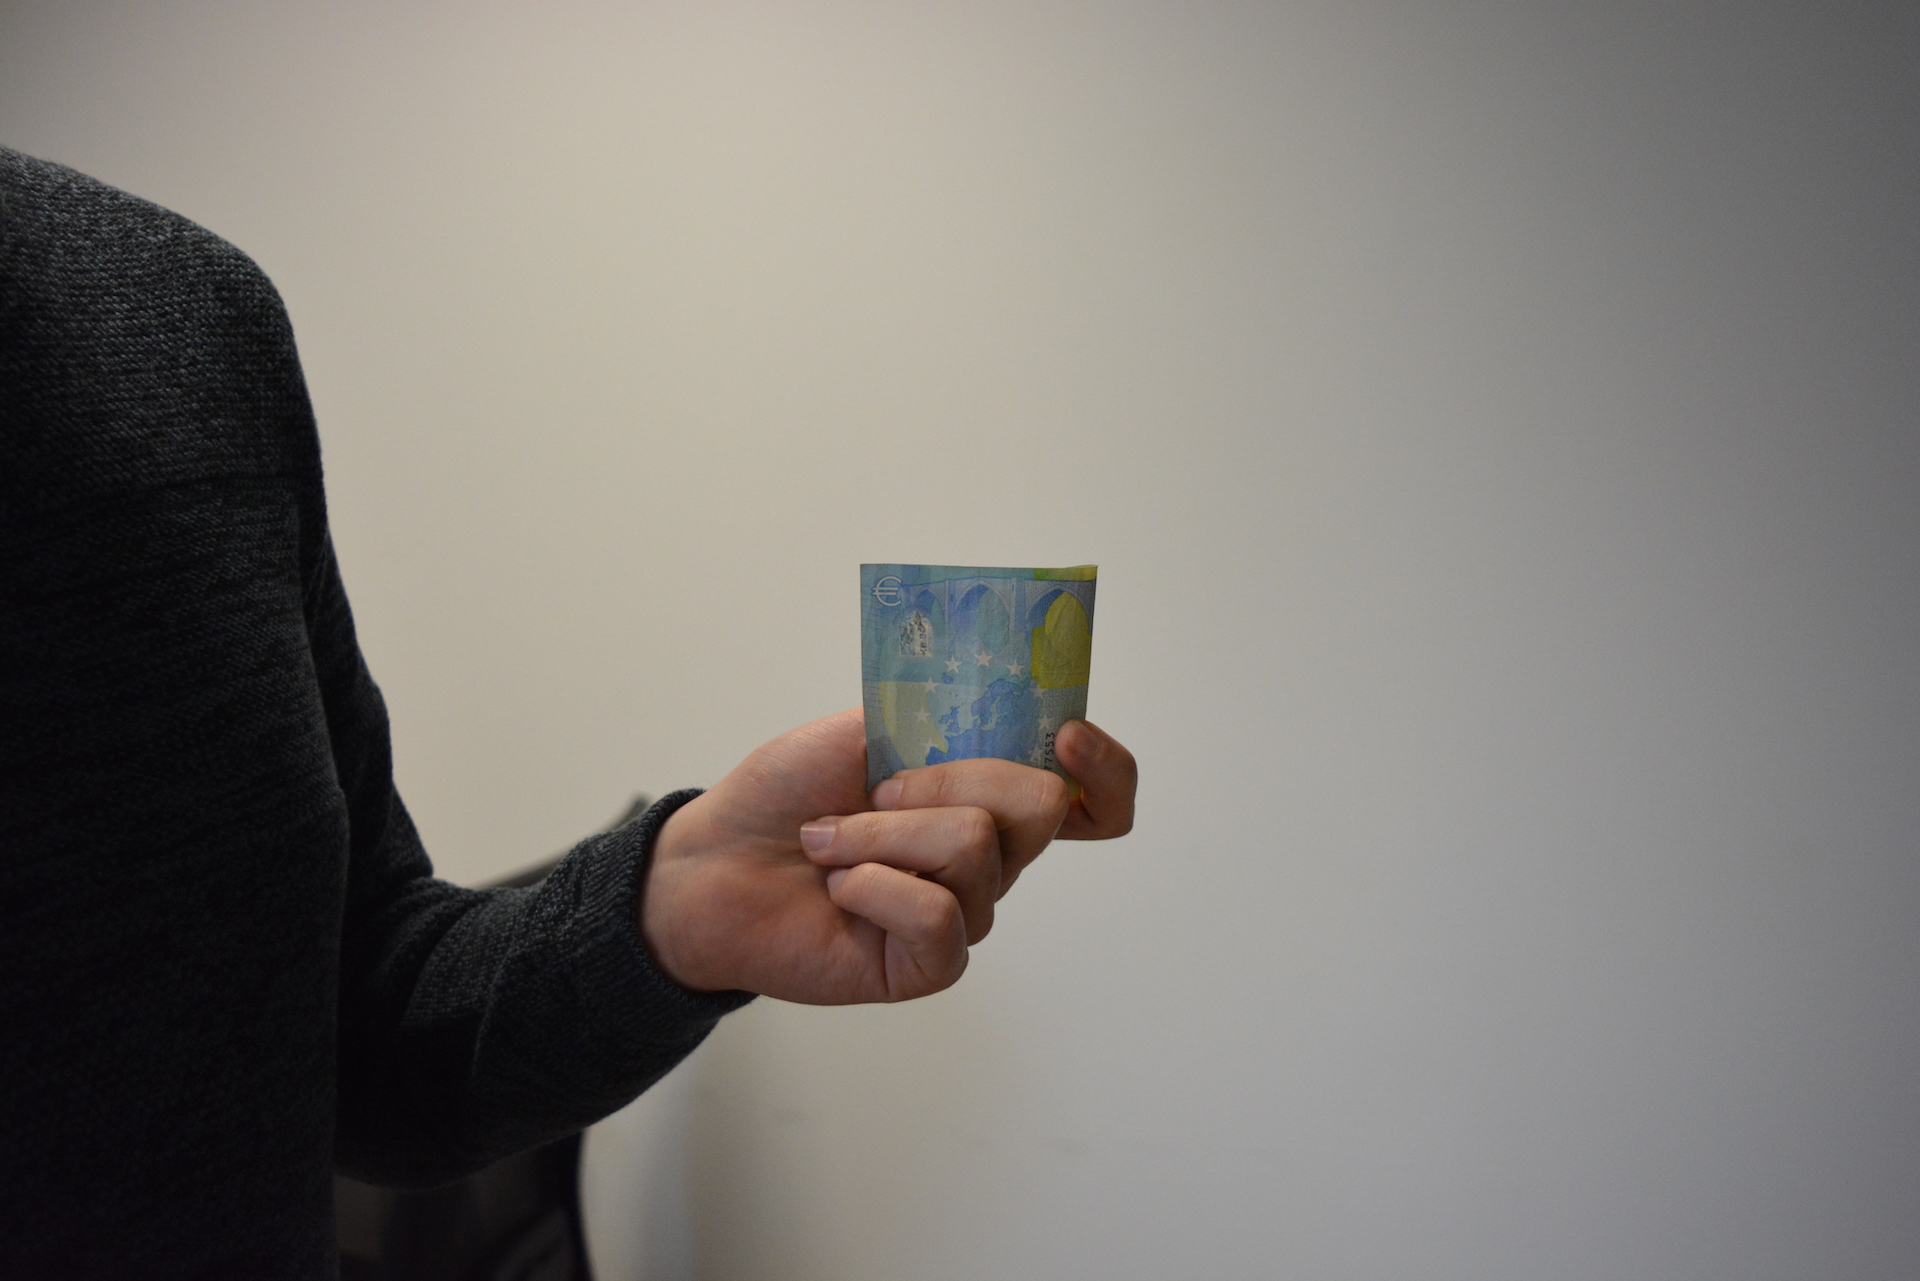billete: (858, 560, 1101, 798)
